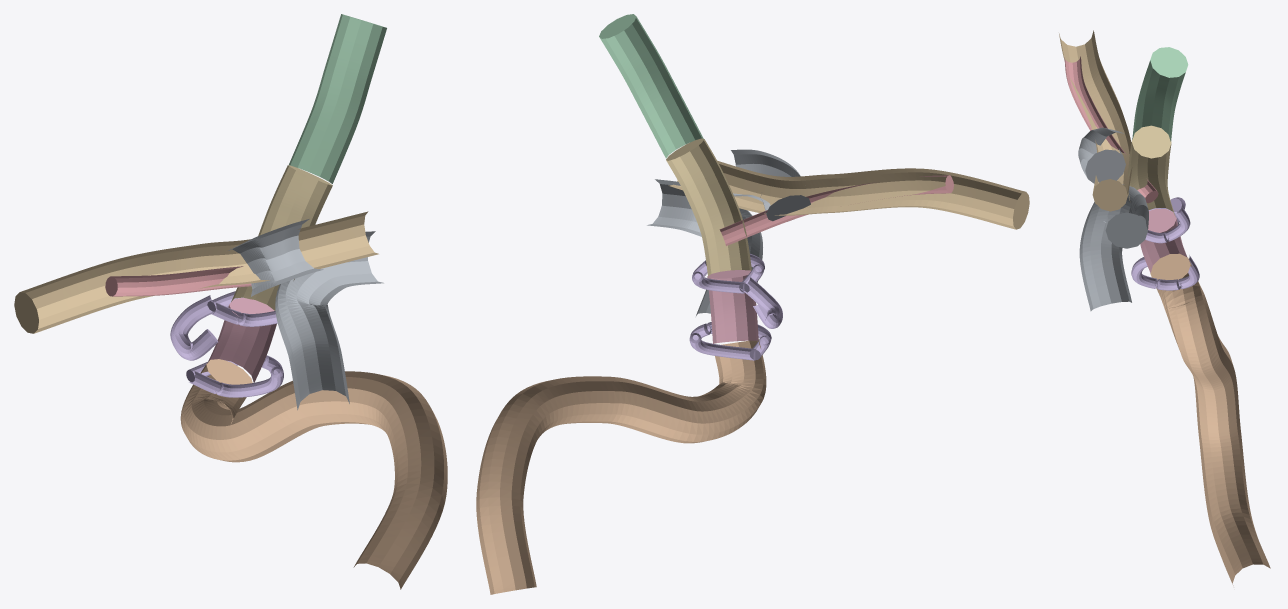
The model's file is paraclinoid.glb.
3 views of the same model, side by side, from view 1: azimuth 30°, elevation 25°; view 2: azimuth 150°, elevation 25°; view 3: azimuth 270°, elevation 25° (orthographic). The views are drawn at different scales.
Parts seen in each view (by area): view 1: C4 — cavernoso, Nervo óptico — orientação esquemática, C7 — comunicante, Clinoide anterior — contorno didático, C6 — oftálmico, Canal óptico — referência, C5 — clinoideo, Artéria oftálmica, Anel dural proximal — esquema, Carotid cave — recesso didático, Anel dural distal — esquema; view 2: C4 — cavernoso, Nervo óptico — orientação esquemática, C7 — comunicante, C6 — oftálmico, C5 — clinoideo, Clinoide anterior — contorno didático, Canal óptico — referência, Artéria oftálmica, Anel dural proximal — esquema, Anel dural distal — esquema, Carotid cave — recesso didático; view 3: C4 — cavernoso, Clinoide anterior — contorno didático, Nervo óptico — orientação esquemática, C7 — comunicante, C6 — oftálmico, Canal óptico — referência, Artéria oftálmica, C5 — clinoideo, Anel dural proximal — esquema, Anel dural distal — esquema.
Part boxes in pixels (x1,y1,x2,y2): C4 — cavernoso: (180,359,447,589); Nervo óptico — orientação esquemática: (14,211,378,333); C7 — comunicante: (288,14,386,183); Clinoide anterior — contorno didático: (275,231,383,410); C6 — oftálmico: (231,165,332,310); Canal óptico — referência: (228,219,323,296); C5 — clinoideo: (206,298,276,382); Artéria oftálmica: (105,266,251,296); Anel dural proximal — esquema: (186,355,283,397); Carotid cave — recesso didático: (170,295,218,360); Anel dural distal — esquema: (207,291,277,326); C4 — cavernoso: (476,339,766,594); Nervo óptico — orientação esquemática: (668,160,1029,229); C7 — comunicante: (599,14,703,158); C6 — oftálmico: (666,138,751,275); C5 — clinoideo: (707,270,758,343); Clinoide anterior — contorno didático: (647,179,762,315); Canal óptico — referência: (731,149,810,221); Artéria oftálmica: (719,175,953,245); Anel dural proximal — esquema: (689,322,771,360); Anel dural distal — esquema: (692,253,764,293); Carotid cave — recesso didático: (740,277,782,328); C4 — cavernoso: (1150,253,1270,585); Clinoide anterior — contorno didático: (1079,184,1148,311); Nervo óptico — orientação esquemática: (1059,30,1132,211); C7 — comunicante: (1132,47,1188,141); C6 — oftálmico: (1127,125,1175,216); Canal óptico — referência: (1078,127,1125,183); Artéria oftálmica: (1064,56,1158,203); C5 — clinoideo: (1140,208,1188,272); Anel dural proximal — esquema: (1131,255,1199,290); Anel dural distal — esquema: (1145,207,1190,243).
Bounding box in the file's own units: 4.04 × 4.76 × 1.82.
